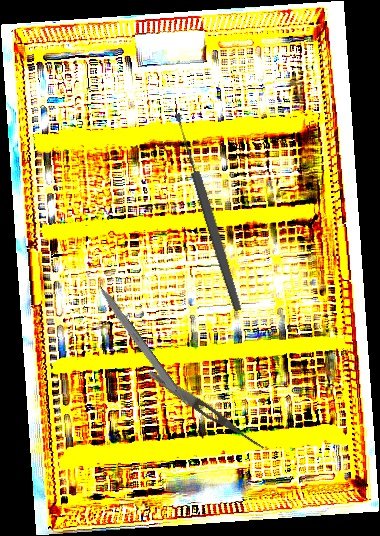Dressing Forceps: (145, 367, 268, 453)
Scalpel Handle: (94, 282, 191, 412)
Surgical Spoon: (172, 111, 244, 313)
